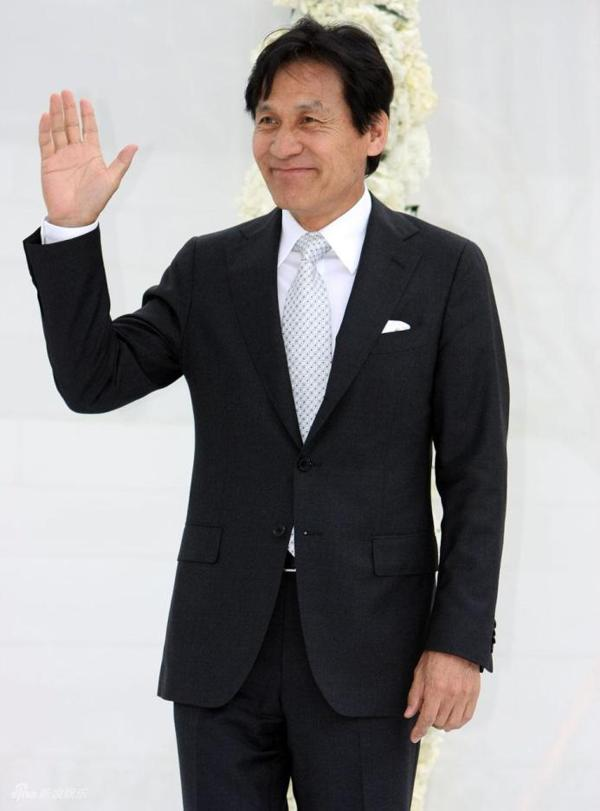person: (22, 16, 512, 811)
